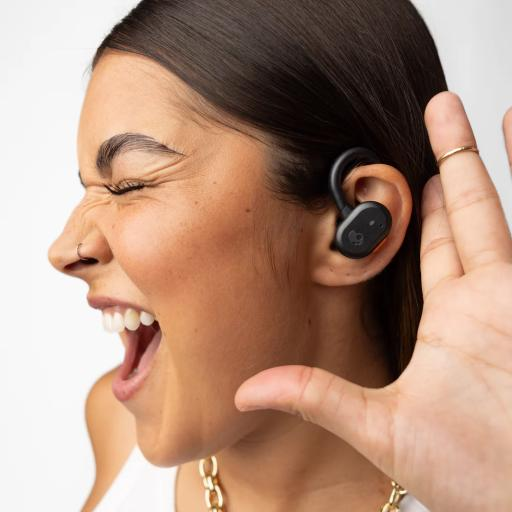earphone: (313, 144, 396, 264)
